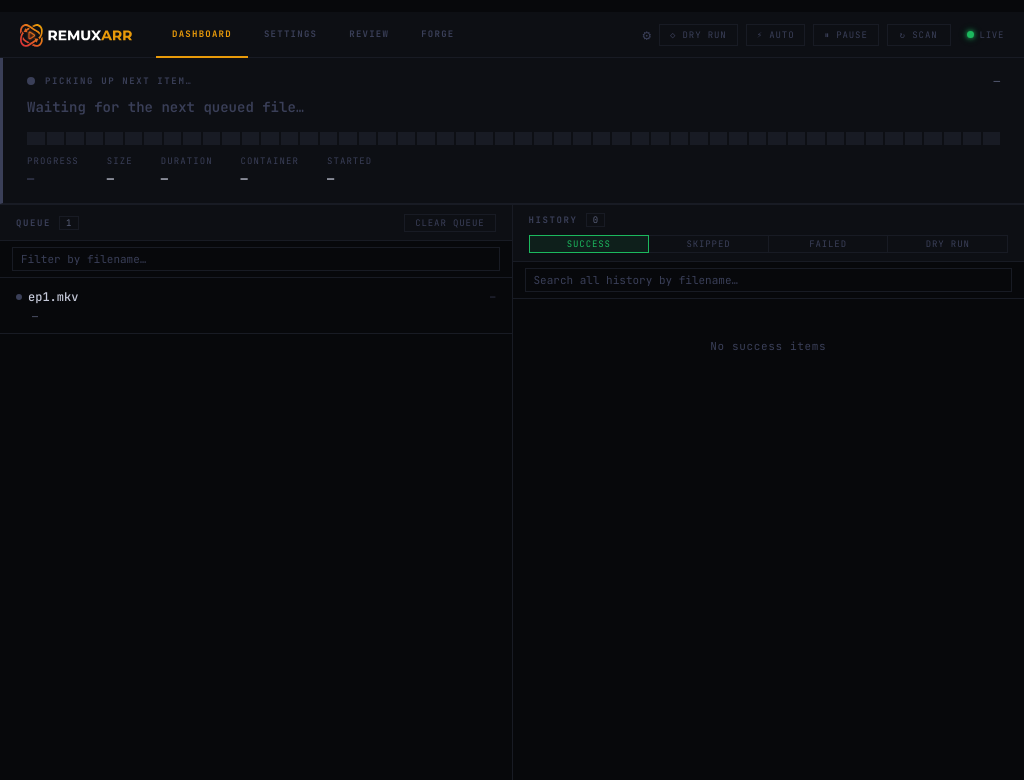
Scenario: App — records removed in Settings reach the dashboard › empties the queue after Clear Database on the Settings page
Expected: the button "ep1.mkv" is shown, [28,289,409,305]
Click the button "SETTINGS". click: (291, 34)
box: [248,12,333,58]
(page scrolled)
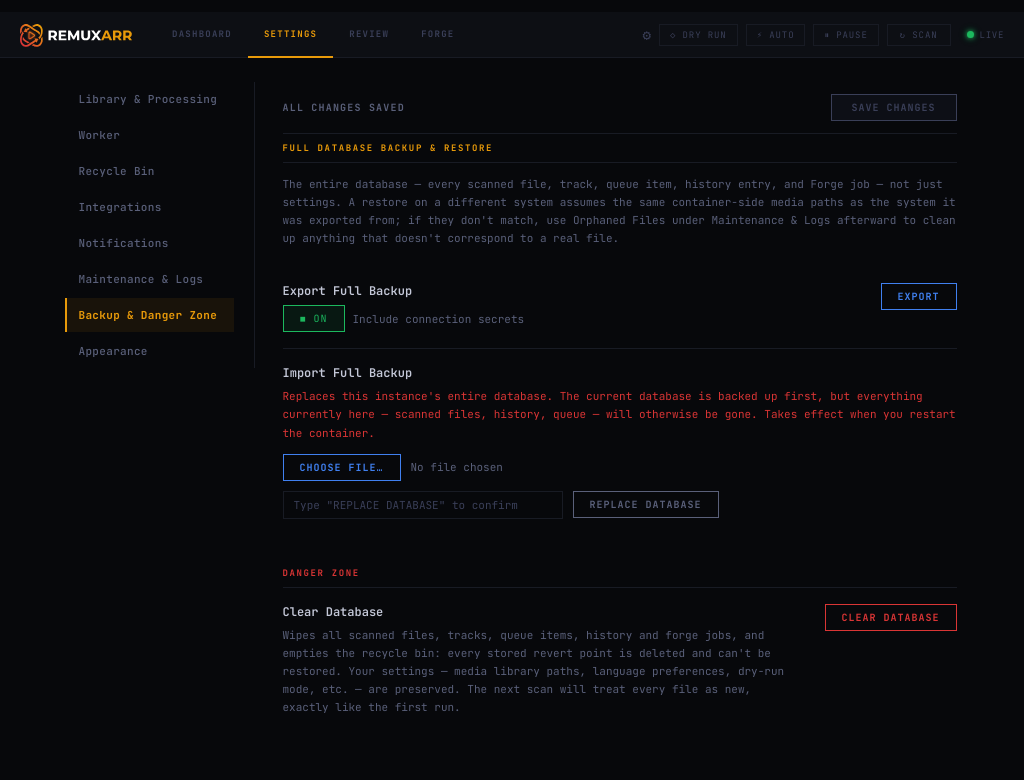
Click the button "CLEAR DATABASE". click: (890, 617)
box: [824,604,956,631]
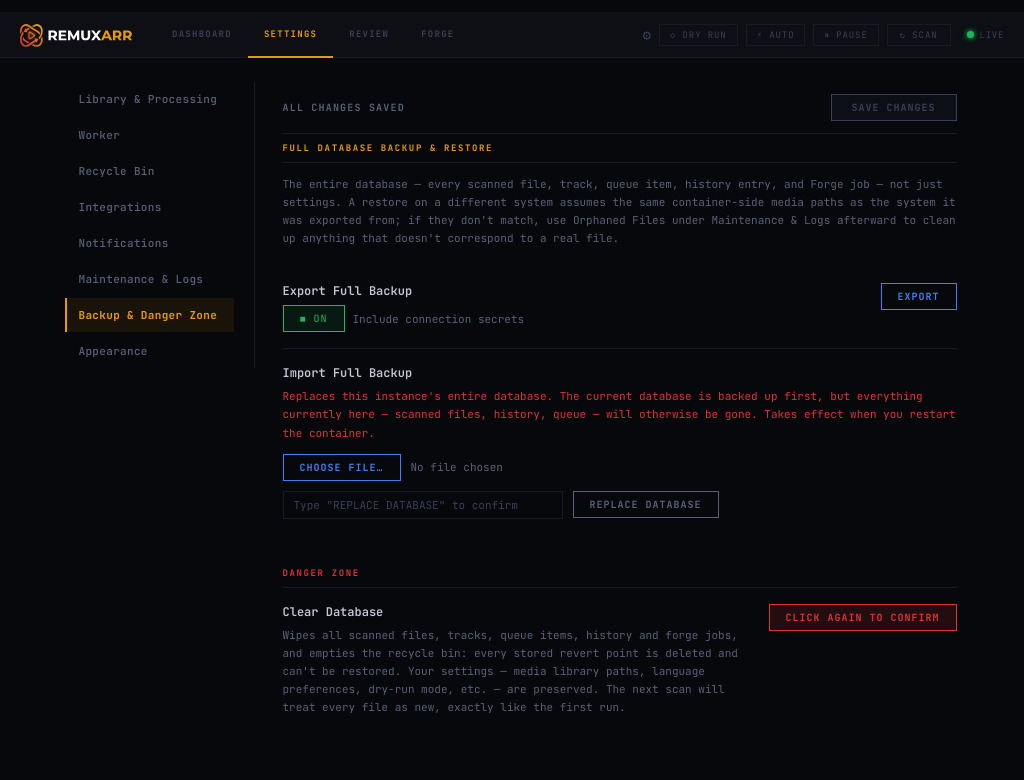
Click the button "CLICK AGAIN TO CONFIRM". click: (862, 617)
box: [768,604,956,631]
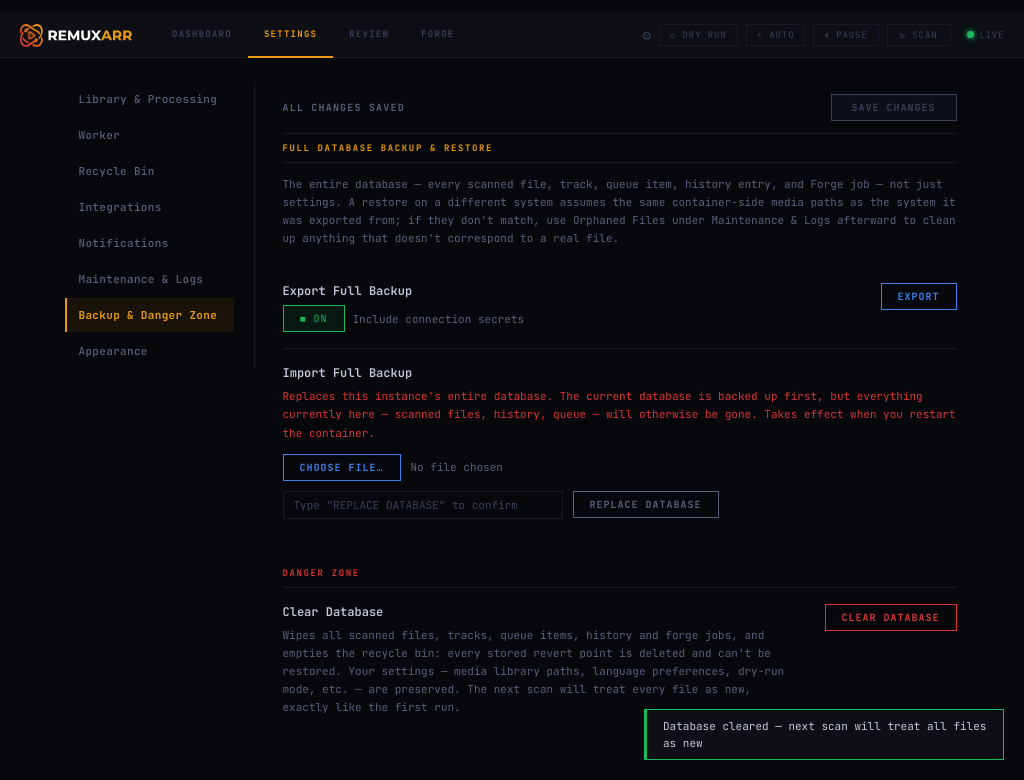
Click the button "DASHBOARD". click: (202, 34)
box: [156,12,248,58]
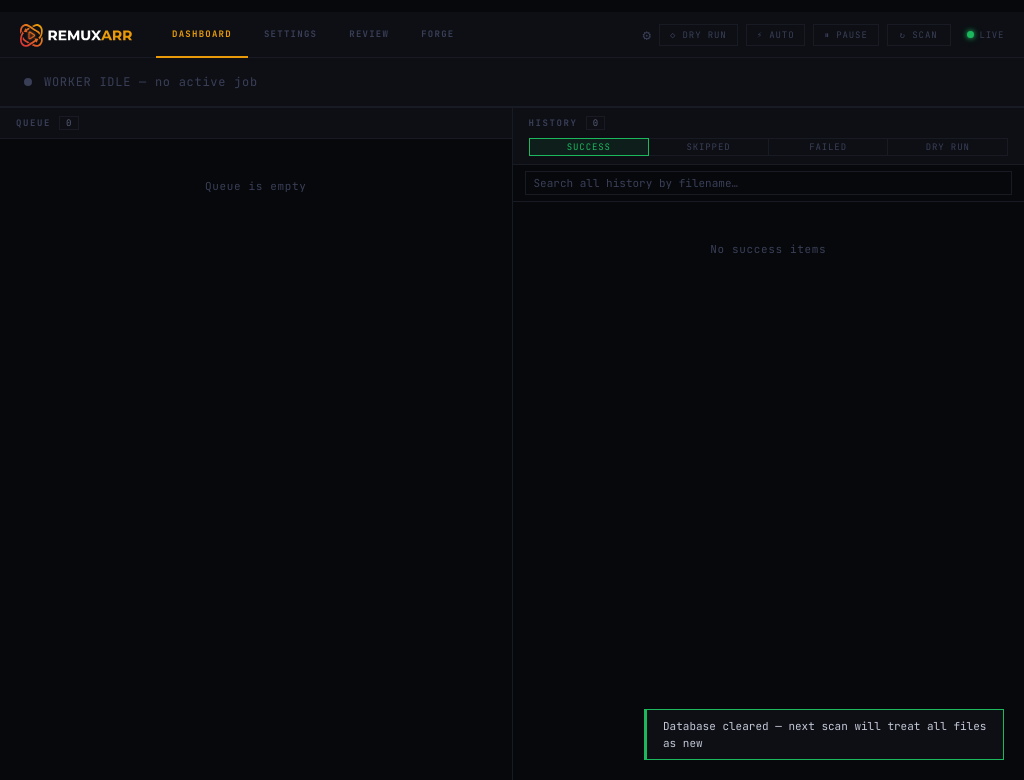
Expected: the button "ep1.mkv" is not shown
Result: the text "Queue is empty" is shown at [205,179,306,193]
